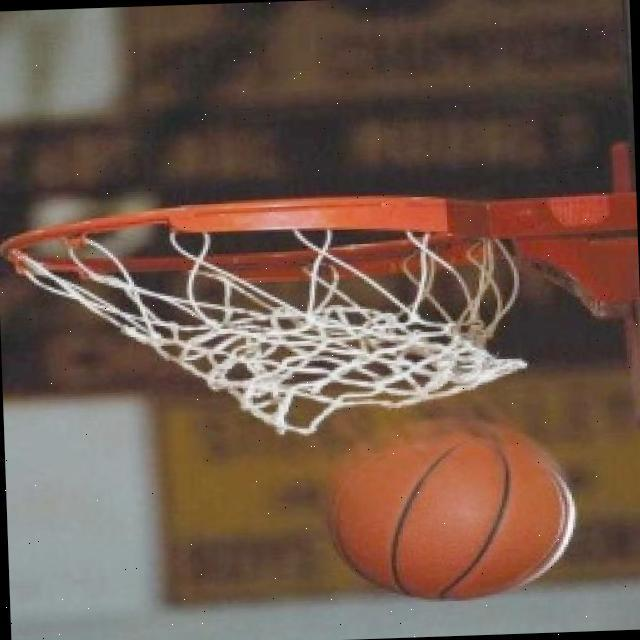ball: (320, 426, 598, 614)
hoop: (7, 193, 531, 276)
